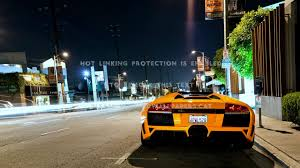Lamborghini: (146, 91, 255, 146)
